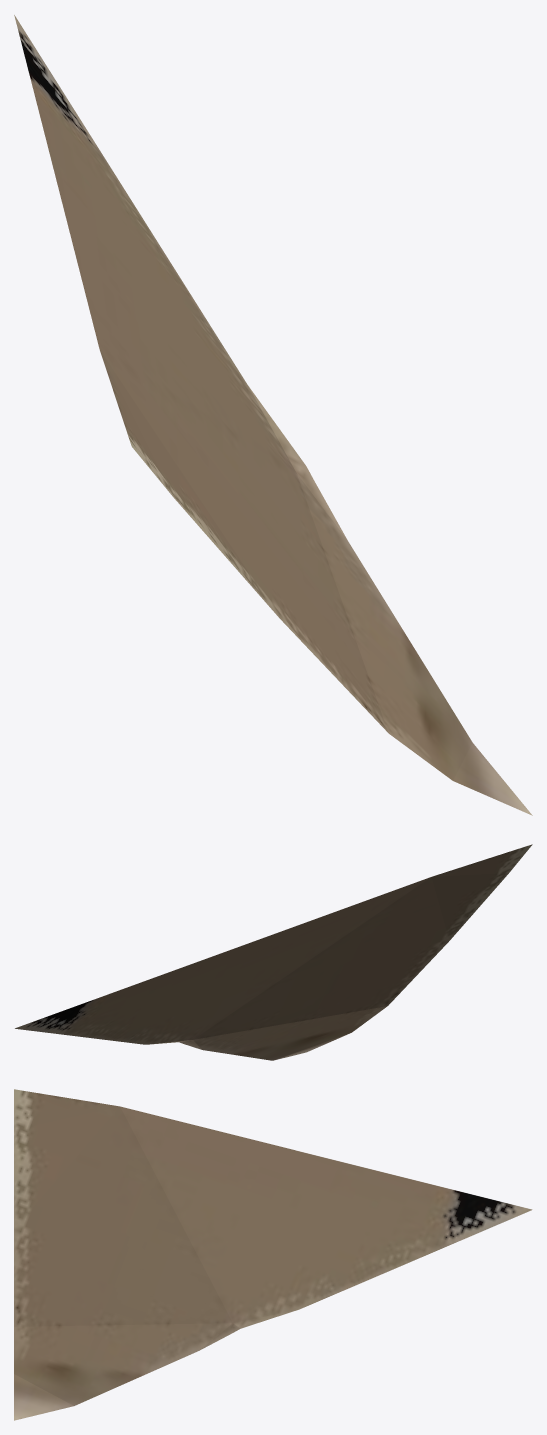
The picture shows the model from 3 angles, top to bottom: view 1: azimuth 30°, elevation 25°; view 2: azimuth 150°, elevation 25°; view 3: azimuth 270°, elevation 25°; orthographic projection. The views are drawn at different scales.
Size of the model in its own units: 0.445 by 0.4968 by 0.9968.
Materials: 1 (1 with a texture image).
